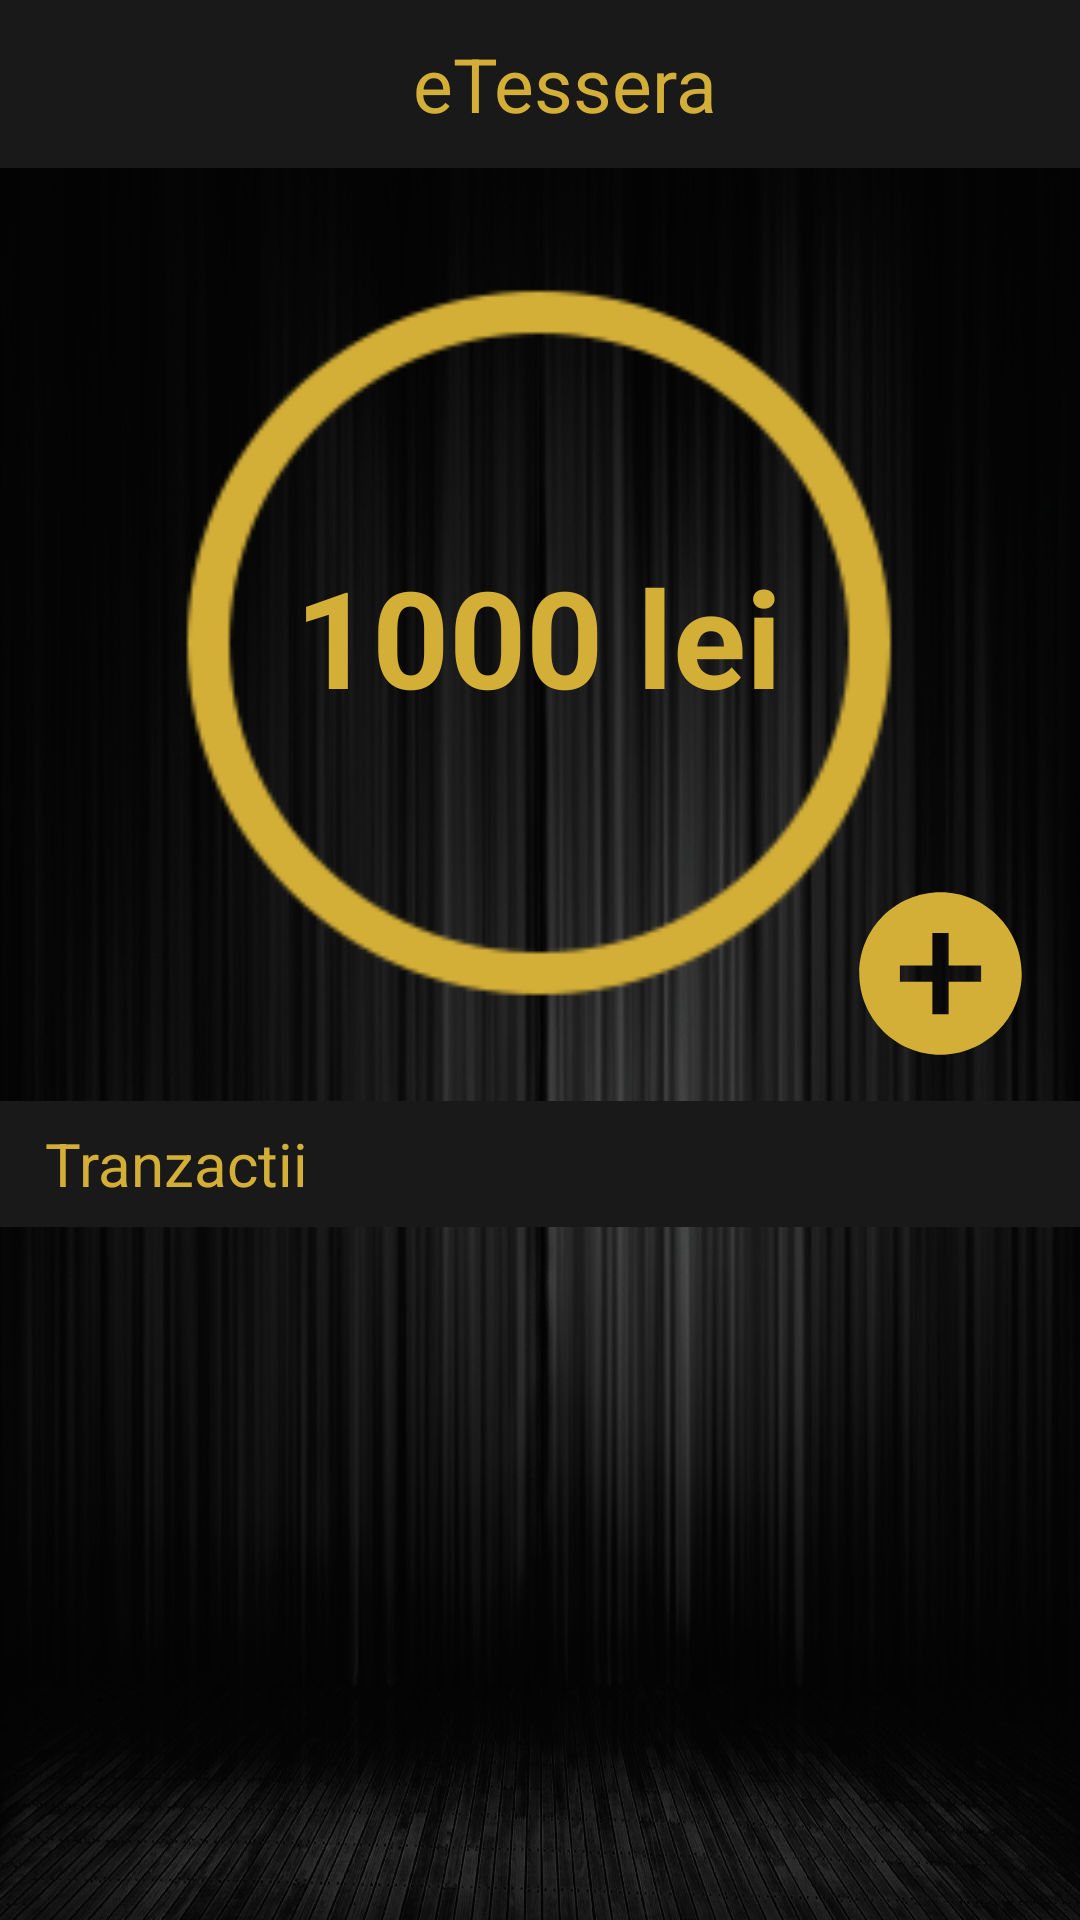

Locate icon controls on the screen. Image size 1080×1920, boxes as (x1,y1,x2,y2).
add circle: (859,892,1022,1055)
